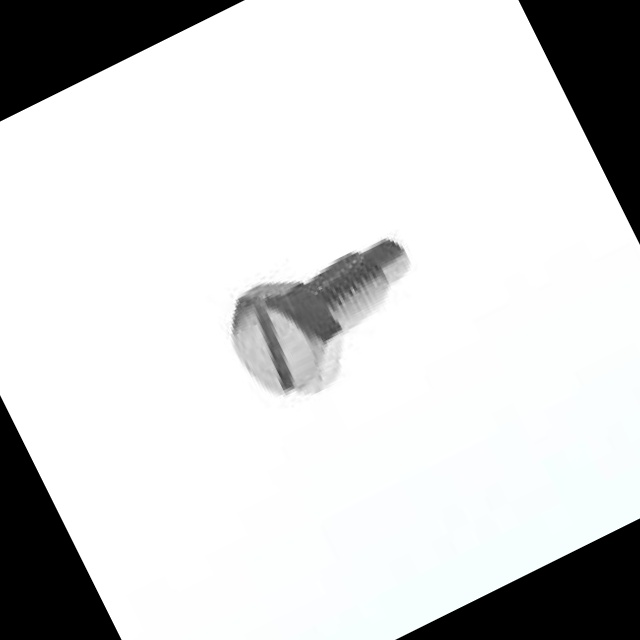duz: (209, 257, 363, 418)
